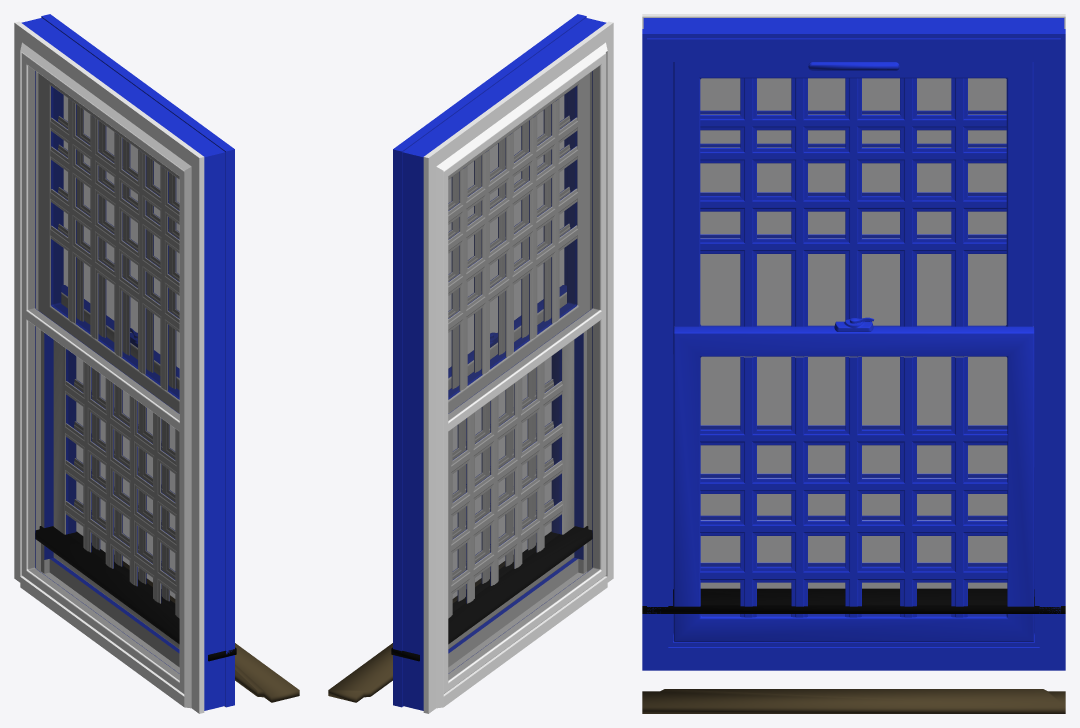
File: Impervia.glb
The picture shows the model from 3 angles, left to right: view 1: azimuth 30°, elevation 25°; view 2: azimuth 150°, elevation 25°; view 3: azimuth 270°, elevation 25°; orthographic projection. The views are drawn at different scales.
Visible parts, largest first — view 1: frame3_full_glass, window1, frame3_half_down_glass, frame3_half_up_glass, frame3_half_down, frame1, frame3_half_up, frame3_full, frame2, contour8_up_out, Black, contour8_down_out (+15 smaller); view 2: frame3_full_glass, window1, frame3_half_down_glass, frame3_half_up_glass, frame3_half_down, frame1, frame3_half_up, frame2, contour8_up_out, Black, frame3_full, contour8_down_out (+15 smaller); view 3: frame3_full_glass, window1, frame1_glass, frame2_glass, frame2, frame1, contour8_up, contour8_down, Brown, contour4_down, contour4_up, contour1_down (+12 smaller).
Boxes of the visible parts, x1,y1,x2,y2 form: frame3_full_glass: (29,67,178,679); window1: (14,14,234,713); frame3_half_down_glass: (28,321,179,679); frame3_half_up_glass: (28,66,179,419); frame3_half_down: (21,308,184,692); frame1: (38,73,179,413); frame3_half_up: (21,52,184,431); frame3_full: (21,54,184,693); frame2: (53,285,179,648); contour8_up_out: (50,98,179,390); Black: (35,526,236,661); contour8_down_out: (65,361,179,618); frame3_full_glass: (449,67,598,679); window1: (393,14,613,713); frame3_half_down_glass: (448,321,599,679); frame3_half_up_glass: (448,66,599,419); frame3_half_down: (443,308,606,692); frame1: (448,73,589,413); frame3_half_up: (443,52,606,432); frame2: (448,285,574,648); contour8_up_out: (448,98,577,390); Black: (391,526,592,661); frame3_full: (443,53,606,693); contour8_down_out: (448,361,562,618); frame3_full_glass: (701,79,1006,587); window1: (642,14,1065,670); frame1_glass: (700,78,1006,326); frame2_glass: (701,357,1006,616); frame2: (673,326,1034,641); frame1: (673,62,1033,354); contour8_up: (700,78,1006,326); contour8_down: (700,356,1007,617); Brown: (642,689,1065,713); contour4_down: (700,430,1007,535); contour4_up: (700,147,1006,253); contour1_down: (700,356,1007,617).
Bounding box in the file's own units: 0.1738 × 0.8917 × 0.5315.
